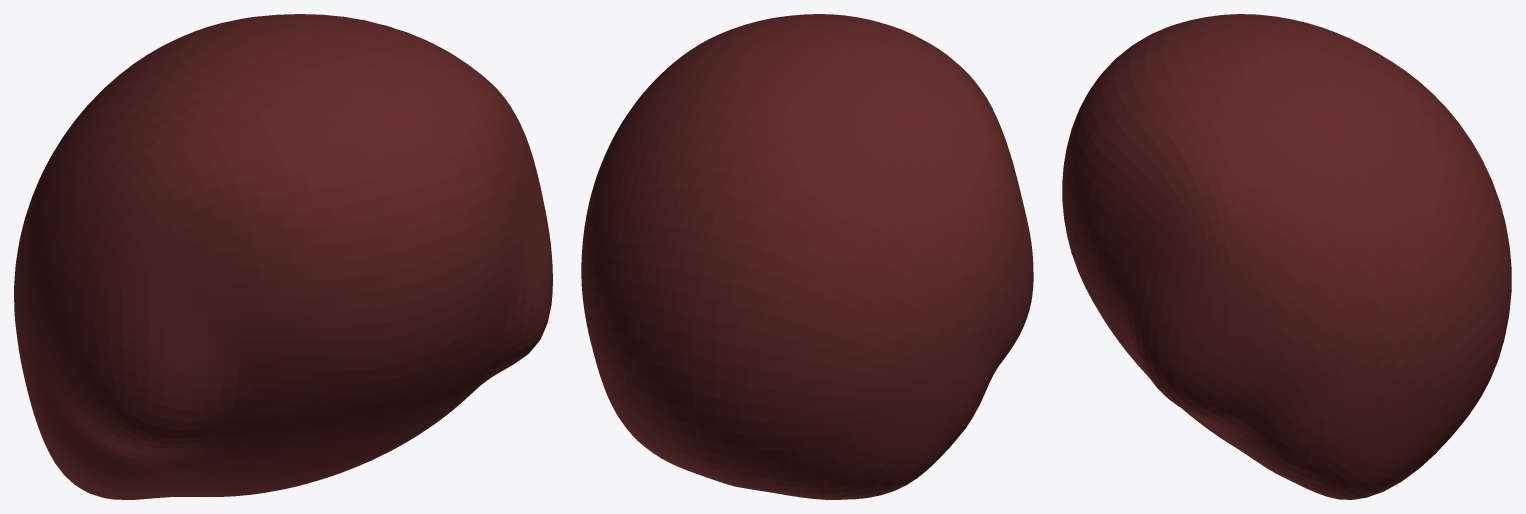
Rendered from BuzzCutHair.fbx.
3 views of the same model, side by side, from view 1: azimuth 30°, elevation 25°; view 2: azimuth 150°, elevation 25°; view 3: azimuth 270°, elevation 25° (orthographic). The views are drawn at different scales.
Visible parts, largest first — view 1: RonRon_Hair:Group63976; view 2: RonRon_Hair:Group63976; view 3: RonRon_Hair:Group63976.
Part boxes in pixels (left/top/right/bottom): RonRon_Hair:Group63976: left=14, top=14, right=552, bottom=499; RonRon_Hair:Group63976: left=581, top=14, right=1033, bottom=499; RonRon_Hair:Group63976: left=1062, top=14, right=1511, bottom=499.
Size of the model in its own units: 1.91 by 1.85 by 1.83.
